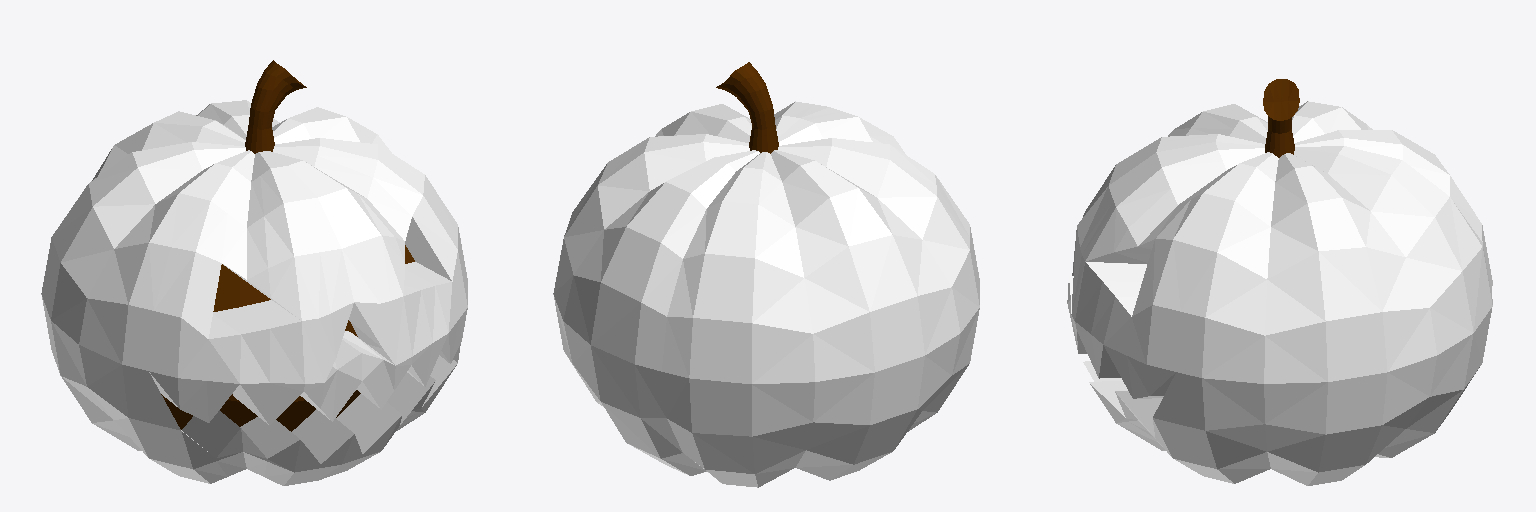
The model's file is Jack-o-Lantern.obj.
The picture shows the model from 3 angles: view 1: azimuth 30°, elevation 25°; view 2: azimuth 150°, elevation 25°; view 3: azimuth 270°, elevation 25°; orthographic projection.
Visible parts, largest first — view 1: Jack_O_Lantern; view 2: Jack_O_Lantern; view 3: Jack_O_Lantern.
Boxes of the visible parts, box(x1,y1,x2,y2) form: Jack_O_Lantern: box(41, 60, 467, 485); Jack_O_Lantern: box(553, 62, 979, 487); Jack_O_Lantern: box(1067, 79, 1492, 485).
Size of the model in its own units: 232 by 225 by 231.